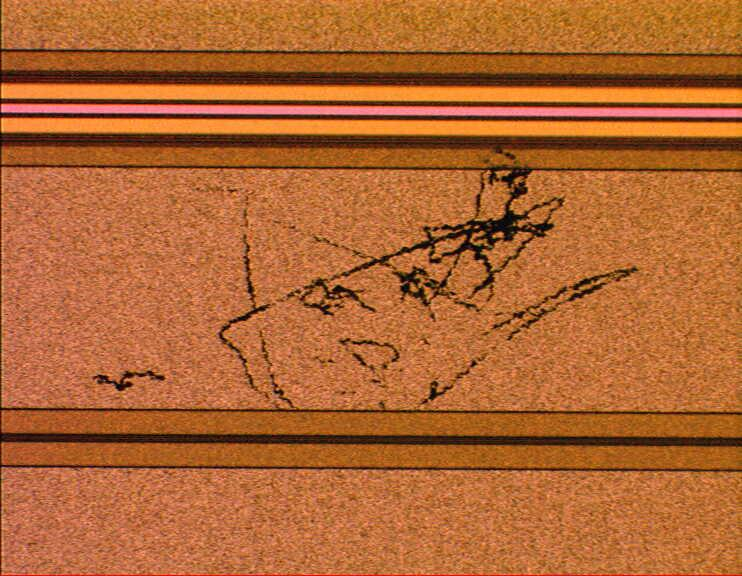SCRATCH: (94, 142, 648, 425)
